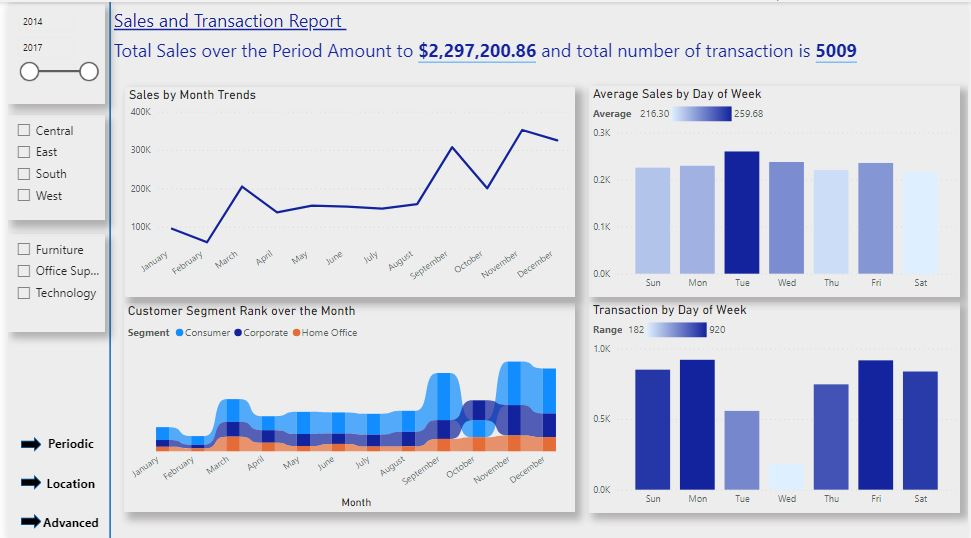

The page's visual inventory and layout, read from the dashboard file:
{"tool":"powerbi","page":{"name":"Periodic Report","canvas":[1280,720],"ordinal":0},"visuals":[{"type":"shape","box":[128.9,0,13.6,720],"z":0},{"type":"textbox","box":[136.5,3,885.7,56.1],"z":1000},{"type":"lineChart","title":"Sales by Month Trends","fields":{"Category":["Orders.Order Date.Variation.Date Hierarchy.Month"],"Y":["Sum(Orders.Sales)"]},"box":[155.9,113.7,600,280],"z":2000},{"type":"ribbonChart","title":"Customer Segment Rank over the Month","fields":{"Category":["Orders.Order Date.Variation.Date Hierarchy.Month"],"Y":["Sum(Orders.Sales)"],"Series":["Orders.Segment"]},"box":[154.7,401.9,600.6,279.1],"z":3000},{"type":"columnChart","title":"Average Sales by Day of Week","fields":{"Category":["Orders.Day Name"],"Y":["Avg(Orders.Sales)"]},"box":[775,112.2,495,280.6],"z":4000},{"type":"columnChart","title":"Transaction by Day of Week","fields":{"Y":["Count(Orders.Order ID)"],"Category":["Orders.Day Name"]},"box":[775,400.4,495,280.6],"z":5000},{"type":"slicer","fields":{"Values":["Orders.Order Date.Variation.Date Hierarchy.Year"]},"box":[0,3,128.9,133.5],"z":6000},{"type":"slicer","fields":{"Values":["Orders.Region"]},"box":[0,150.1,128.9,139.5],"z":7000},{"type":"slicer","fields":{"Values":["Orders.Category"]},"box":[0,309.4,128.9,130.4],"z":8000},{"type":"textbox","box":[136.5,42.5,1029.8,54.6],"z":9000}]}

Visuals, with their boxes on the page's 1280x720 design canvas (x1, y1, x2, y2). These are canvas units, not pixel positions in the 971x538 screenshot, which may show the page scaled, cropped or inside an application window:
shape: detection(129, 0, 142, 720)
textbox: detection(136, 3, 1022, 59)
"Sales by Month Trends" lineChart: detection(156, 114, 756, 394)
"Customer Segment Rank over the Month" ribbonChart: detection(155, 402, 755, 681)
"Average Sales by Day of Week" columnChart: detection(775, 112, 1270, 393)
"Transaction by Day of Week" columnChart: detection(775, 400, 1270, 681)
slicer - Orders.Order Date.Variation.Date Hierarchy.Year: detection(0, 3, 129, 136)
slicer - Orders.Region: detection(0, 150, 129, 290)
slicer - Orders.Category: detection(0, 309, 129, 440)
textbox: detection(136, 42, 1166, 97)
